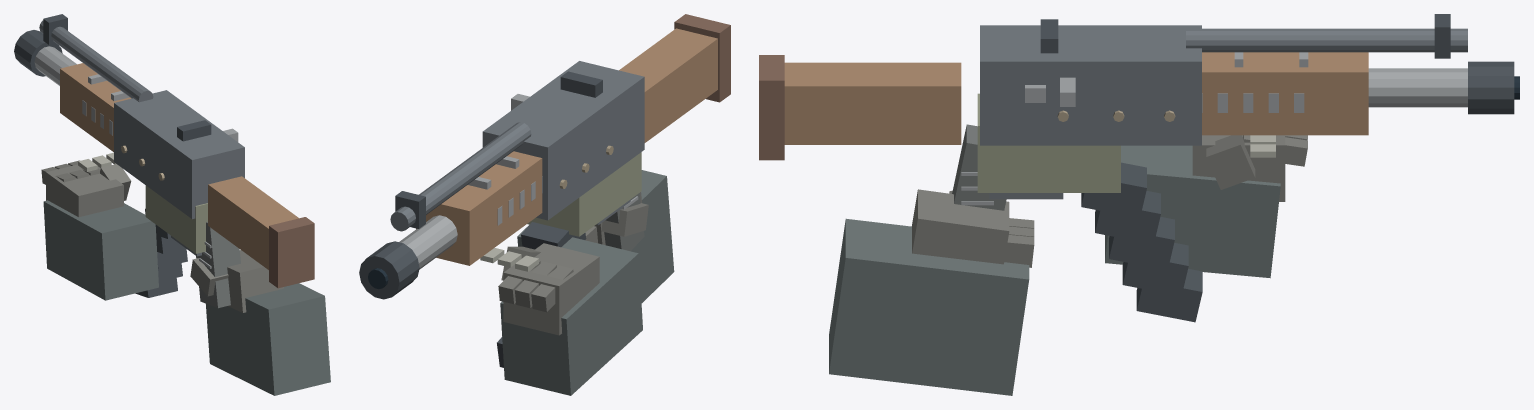
The picture shows the model from 3 angles, left to right: view 1: azimuth 30°, elevation 25°; view 2: azimuth 150°, elevation 25°; view 3: azimuth 270°, elevation 25°; orthographic projection. The views are drawn at different scales.
Parts seen in each view (by area): view 1: sleeve_right_052, upper_receiver_000, sleeve_left_050, laminated_stock_006, foreend_002, stock_butt_007, palm_left_051, lower_receiver_001, gas_piston_013, grip_041, palm_right_053, muzzle_device_004 (+9 smaller); view 2: upper_receiver_000, sleeve_left_050, foreend_002, laminated_stock_006, palm_left_051, sleeve_right_052, lower_receiver_001, gas_piston_013, muzzle_device_004, stock_butt_007, barrel_shroud_003, curved_mag_008 (+8 smaller); view 3: sleeve_right_052, upper_receiver_000, laminated_stock_006, foreend_002, sleeve_left_050, lower_receiver_001, gas_piston_013, palm_right_053, barrel_shroud_003, stock_butt_007, muzzle_device_004, curved_mag_012 (+11 smaller).
Boxes of the visible parts, bbox=[...] form: sleeve_right_052: bbox=[206, 283, 330, 395]; upper_receiver_000: bbox=[114, 90, 244, 219]; sleeve_left_050: bbox=[43, 200, 158, 300]; laminated_stock_006: bbox=[208, 176, 298, 269]; foreend_002: bbox=[60, 63, 131, 151]; stock_butt_007: bbox=[269, 217, 314, 288]; palm_left_051: bbox=[46, 164, 123, 217]; lower_receiver_001: bbox=[145, 185, 207, 253]; gas_piston_013: bbox=[39, 20, 153, 102]; grip_041: bbox=[196, 222, 240, 308]; palm_right_053: bbox=[227, 250, 283, 312]; muzzle_device_004: bbox=[14, 30, 62, 76]; upper_receiver_000: bbox=[482, 61, 644, 220]; sleeve_left_050: bbox=[500, 237, 642, 395]; foreend_002: bbox=[416, 151, 542, 265]; laminated_stock_006: bbox=[619, 28, 717, 142]; palm_left_051: bbox=[503, 243, 599, 335]; sleeve_right_052: bbox=[517, 170, 674, 302]; lower_receiver_001: bbox=[527, 152, 641, 236]; gas_piston_013: bbox=[390, 122, 531, 231]; muzzle_device_004: bbox=[359, 241, 419, 299]; stock_butt_007: bbox=[674, 14, 730, 102]; barrel_shroud_003: bbox=[399, 215, 457, 269]; curved_mag_008: bbox=[521, 222, 586, 249]; sleeve_right_052: bbox=[829, 218, 1029, 395]; upper_receiver_000: bbox=[980, 25, 1201, 145]; laminated_stock_006: bbox=[784, 62, 961, 144]; foreend_002: bbox=[1202, 52, 1368, 135]; sleeve_left_050: bbox=[1105, 145, 1280, 278]; lower_receiver_001: bbox=[977, 93, 1120, 192]; gas_piston_013: bbox=[1186, 28, 1467, 52]; palm_right_053: bbox=[911, 189, 1009, 264]; barrel_shroud_003: bbox=[1368, 68, 1467, 107]; stock_butt_007: bbox=[759, 55, 784, 160]; muzzle_device_004: bbox=[1468, 61, 1514, 114]; curved_mag_012: bbox=[1136, 268, 1202, 322].
Bounding box in the file's own units: 0.455 × 0.7972 × 1.64.
